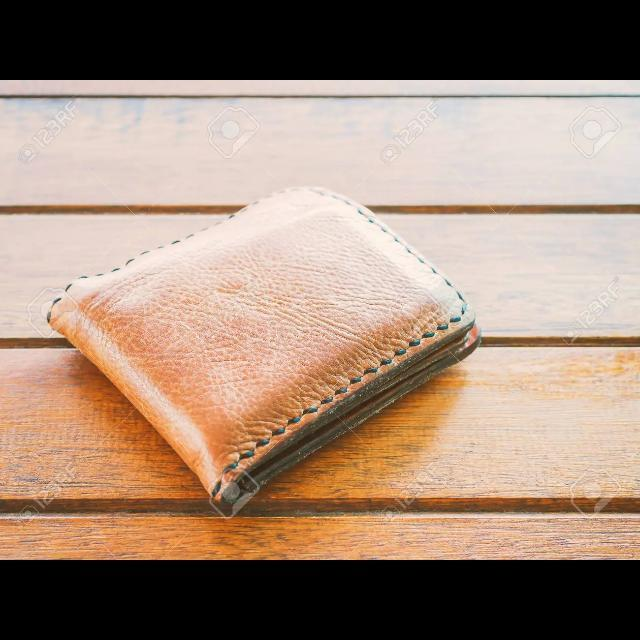wallet: (48, 170, 496, 532)
